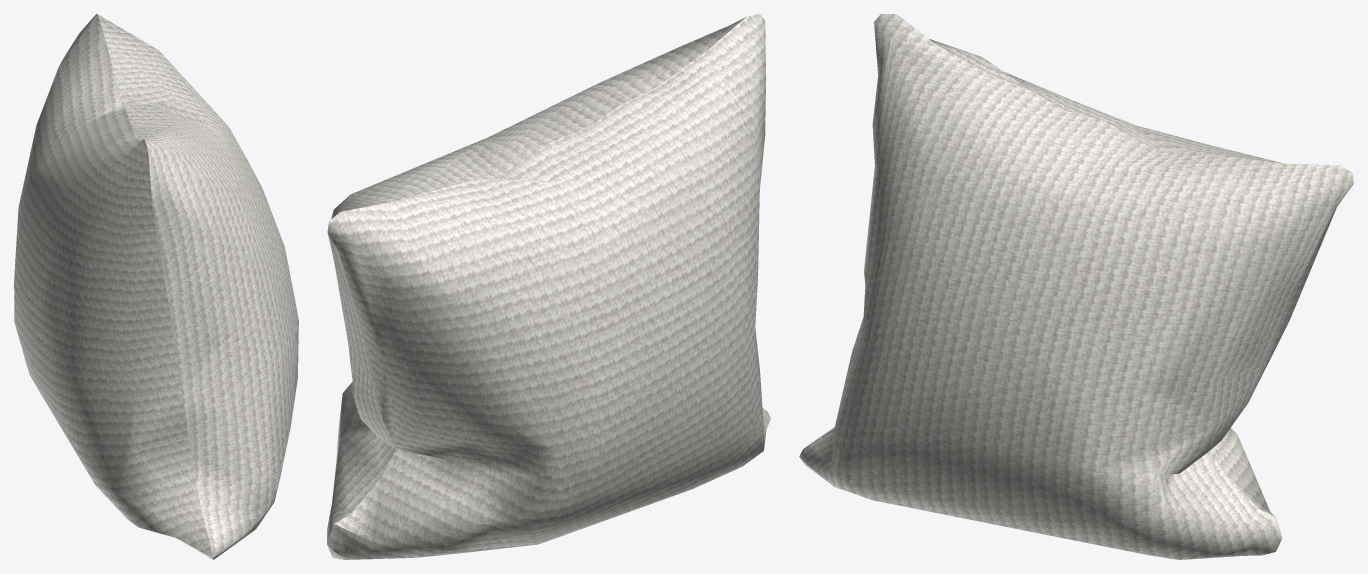
The model's file is SM_Cushion_1.fbx.
3 views of the same model, side by side, from view 1: azimuth 30°, elevation 25°; view 2: azimuth 150°, elevation 25°; view 3: azimuth 270°, elevation 25° (orthographic). The views are drawn at different scales.
Parts seen in each view (by area): view 1: Cushion; view 2: Cushion; view 3: Cushion.
Part boxes in pixels (x1,y1,x2,y2): Cushion: (14,14,298,559); Cushion: (327,14,770,559); Cushion: (799,14,1353,559).
Size of the model in its own units: 0.2678 by 0.3623 by 0.4124.
Materials: 1 (1 with a texture image).
